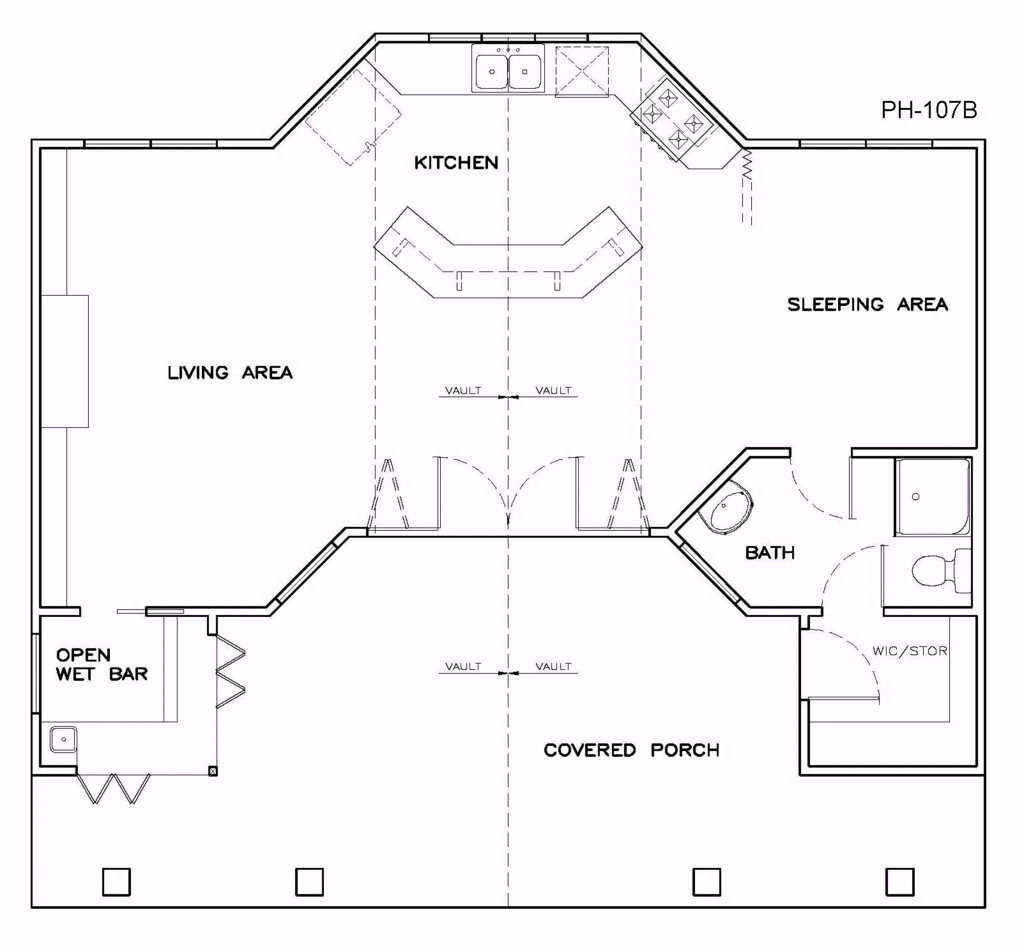door: (423, 449, 587, 521), (803, 627, 883, 702), (787, 442, 855, 519), (824, 545, 886, 605)
kitchen_bar: (621, 49, 749, 192)
large_sink: (908, 541, 971, 595)
small_sink: (696, 469, 758, 536)
twin_sink: (464, 39, 550, 98)
window: (793, 135, 937, 154), (431, 29, 589, 45), (89, 135, 214, 148)
